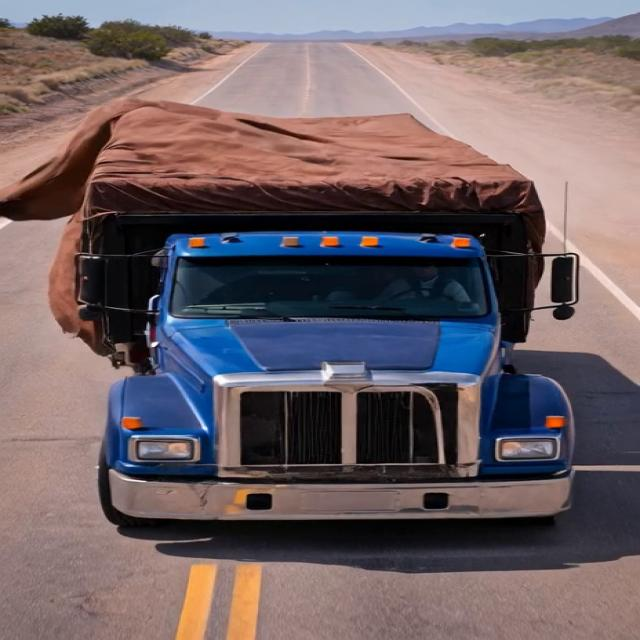trailer: (75, 87, 566, 197)
truck: (31, 80, 605, 536)
